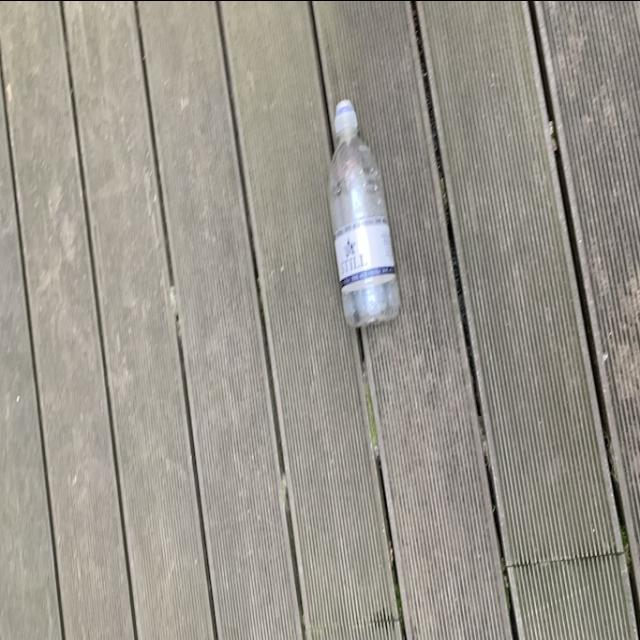litter: (324, 95, 401, 333)
